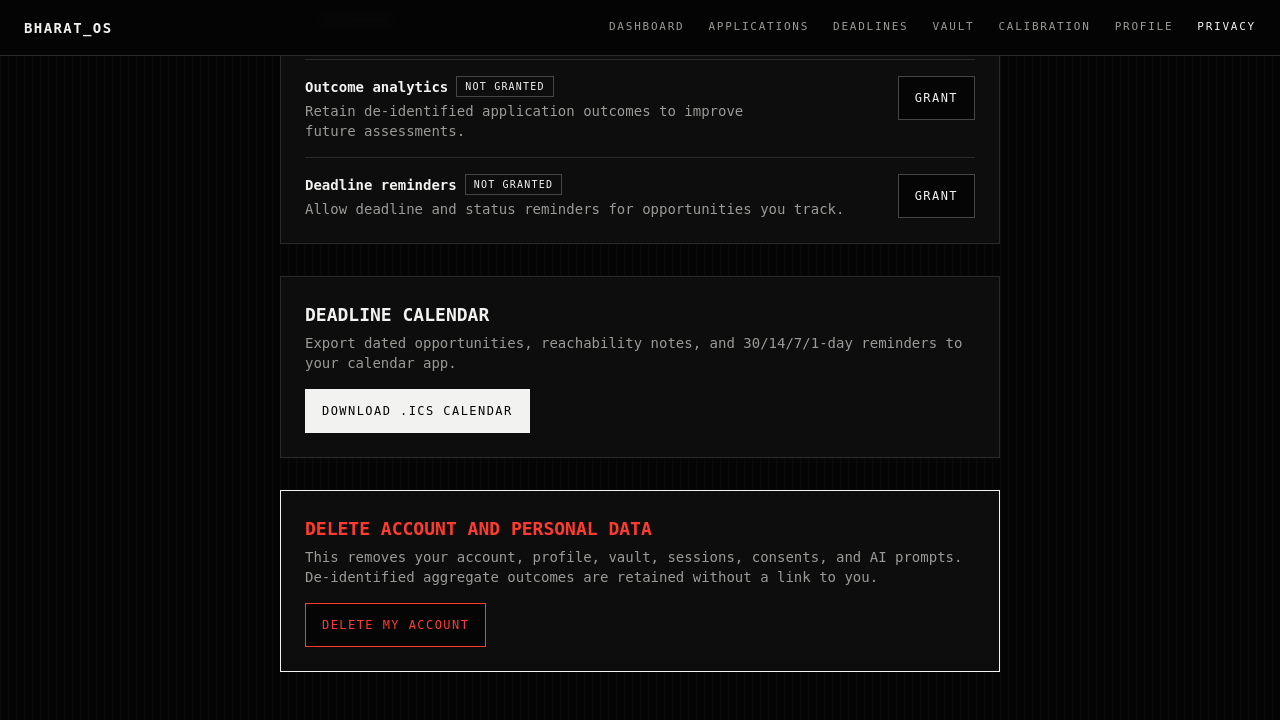
Scenario: SettingsPage › shows the deletion receipt returned by the API
(page scrolled)
Click the button "Delete my account" at point(396, 625), box [305,603,486,647]
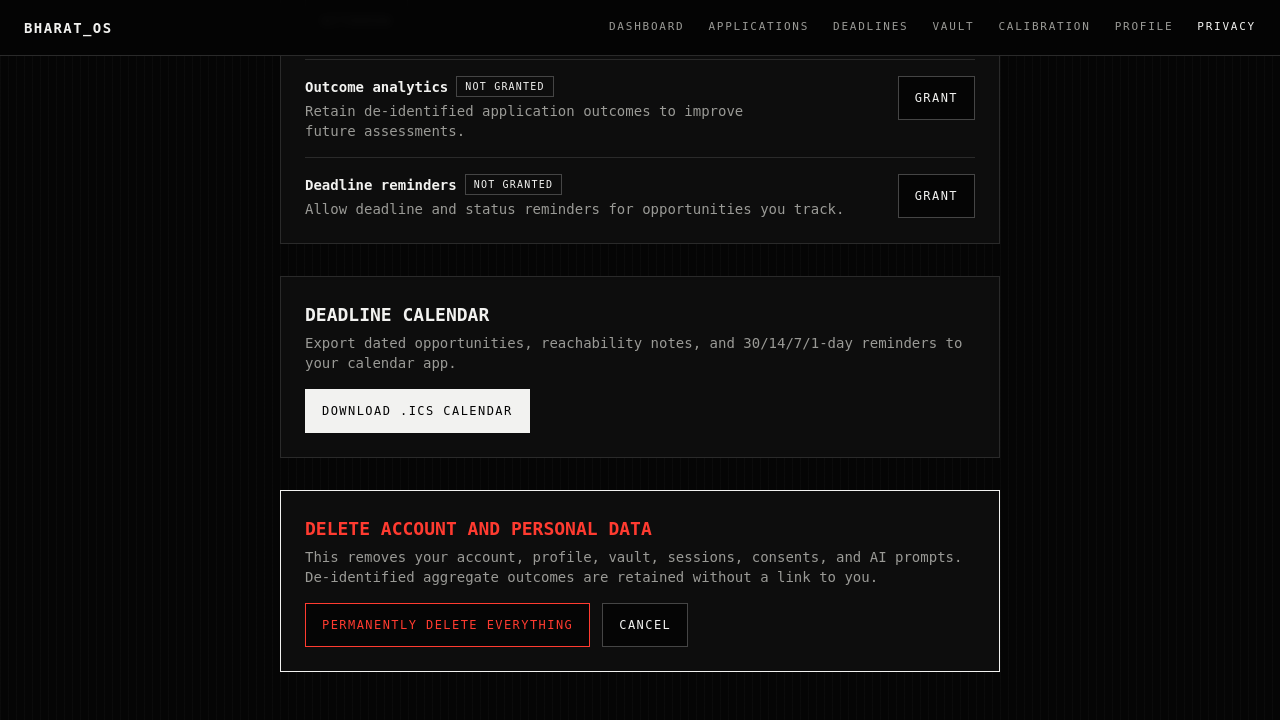
Click the button "Permanently delete everything" at point(448, 625), box [305,603,590,647]
(page scrolled)
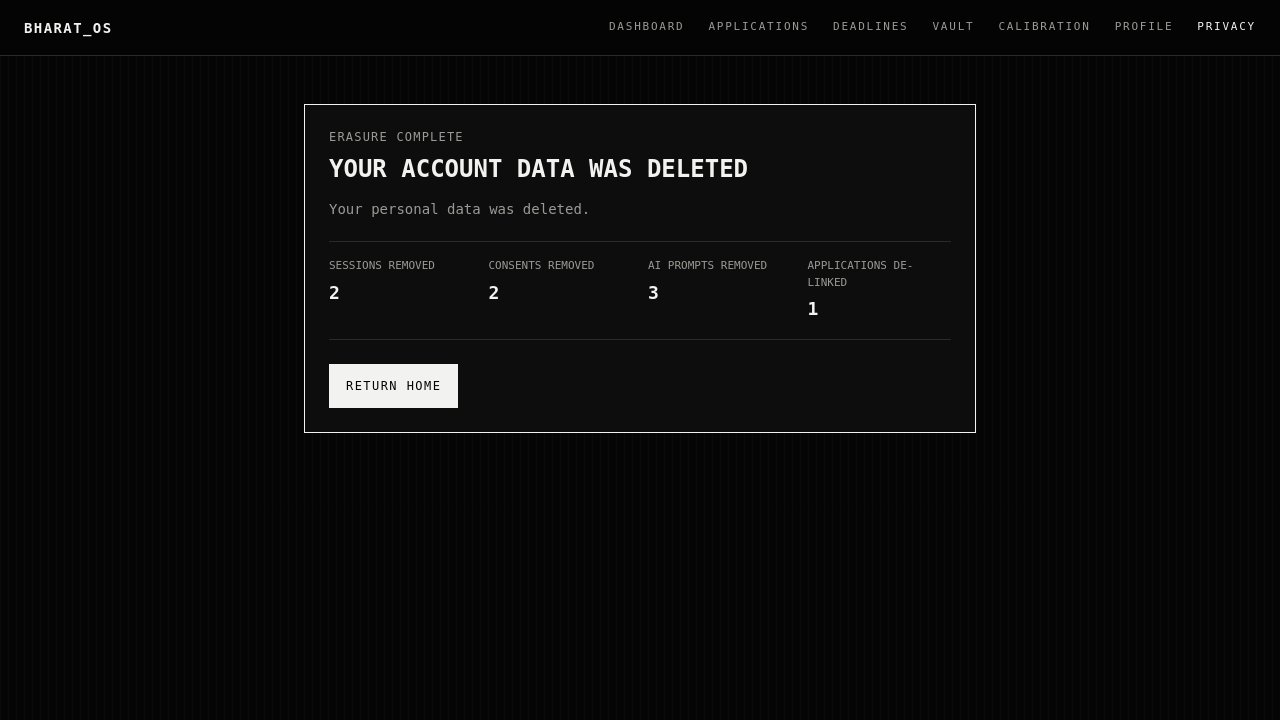
Expected: the text "3" is shown, [648,282,659,302]
Expected: the heading "Your account data was deleted" is shown, [329,155,748,183]
Expected: the text "Your personal data was deleted." is shown, [329,201,590,217]
